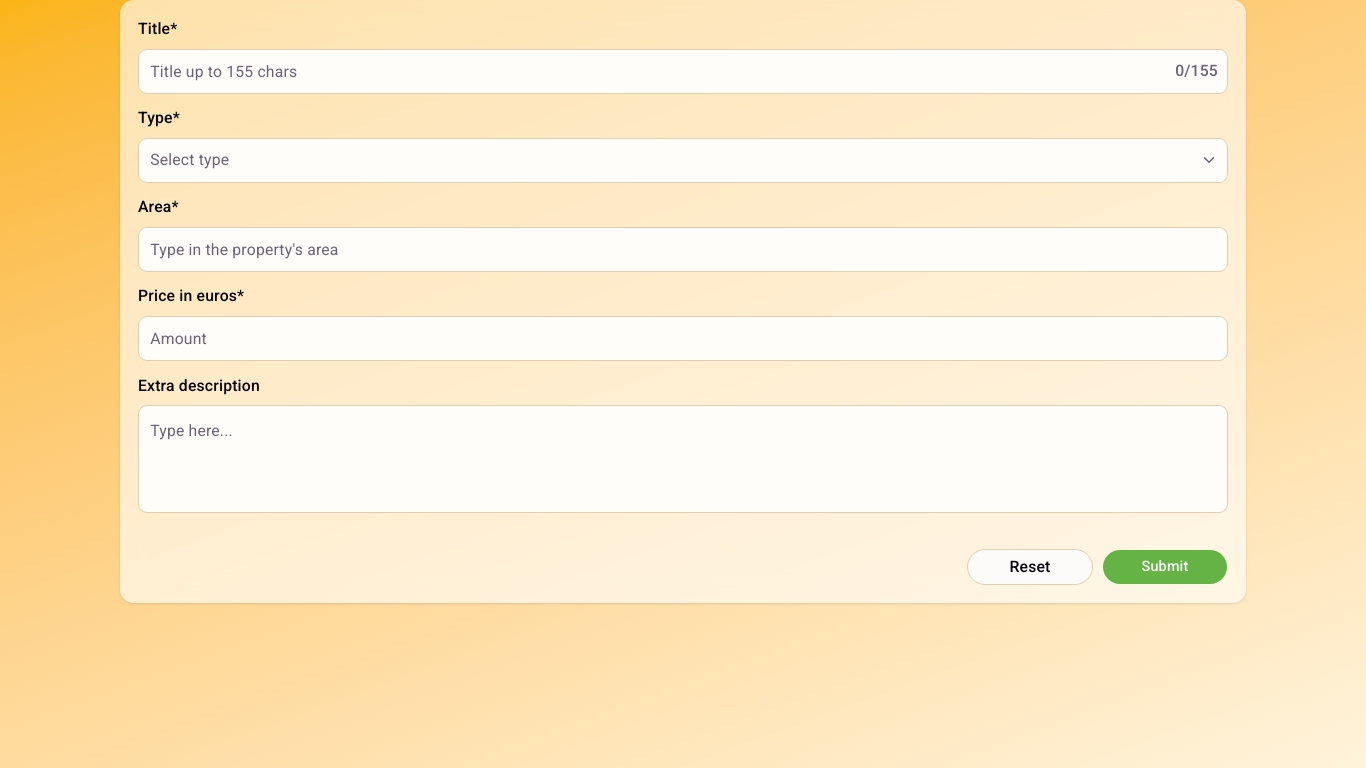
Test case: Form › Validation › should display validation errors on empty form submit
This screenshot has width=1366, height=768.
Click the button "Submit". click: (1165, 567)
box: x1=1102 y1=549 x2=1228 y2=585
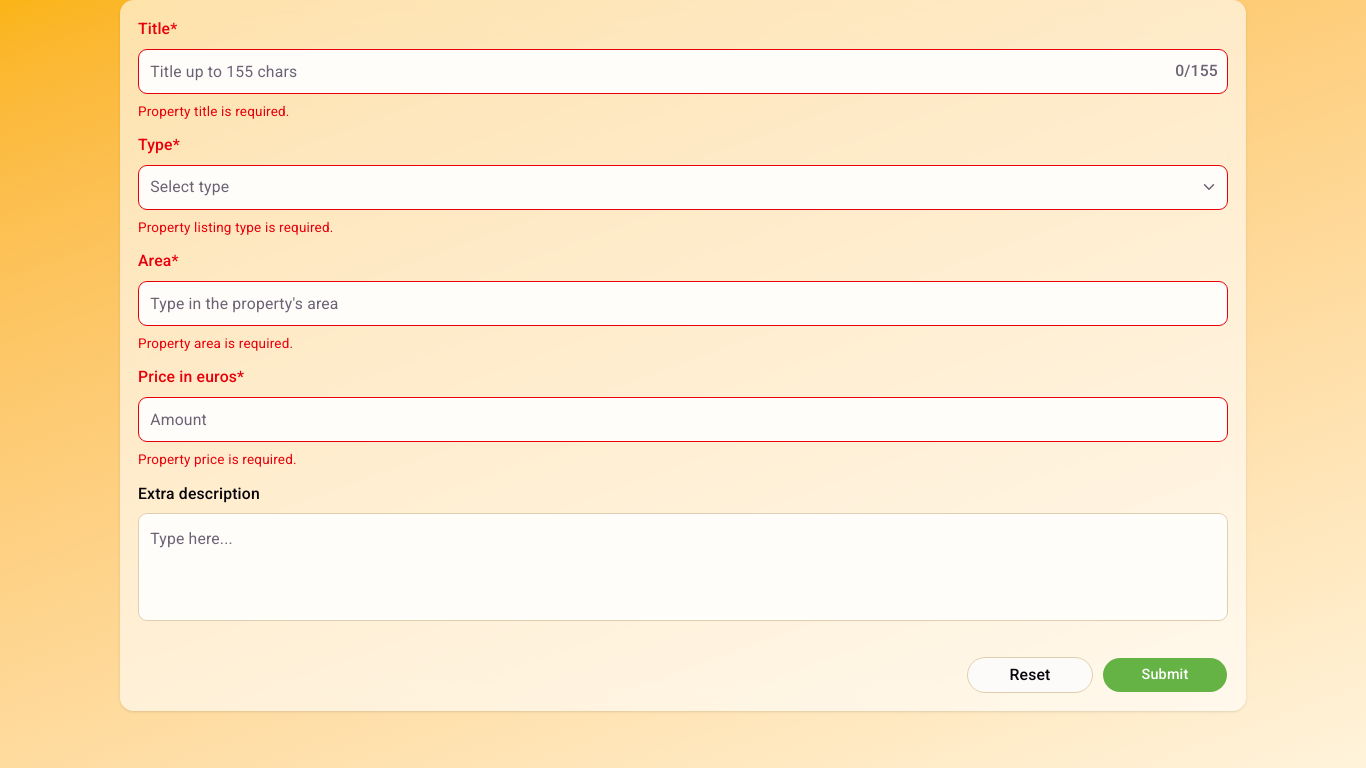
Result: the text "Property title is required." is shown at x1=138 y1=103 x2=290 y2=119
Result: the text "Property listing type is required." is shown at x1=138 y1=219 x2=334 y2=235
Result: the text "Property area is required." is shown at x1=138 y1=335 x2=293 y2=351
